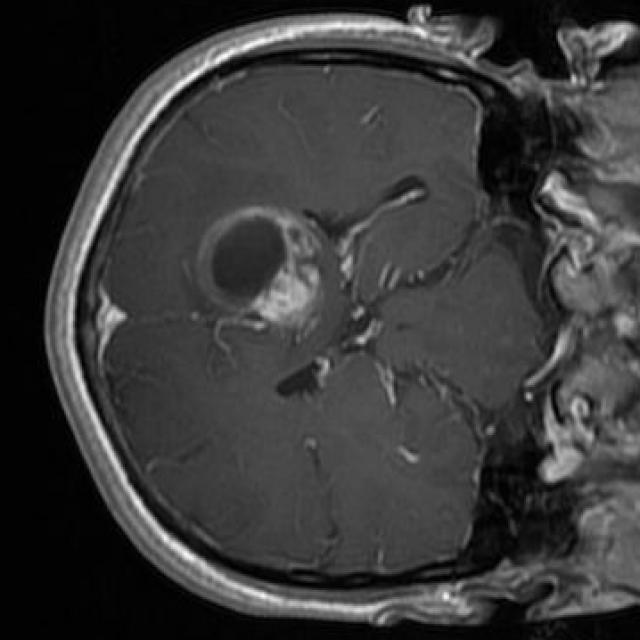glioma: (194, 207, 332, 332)
